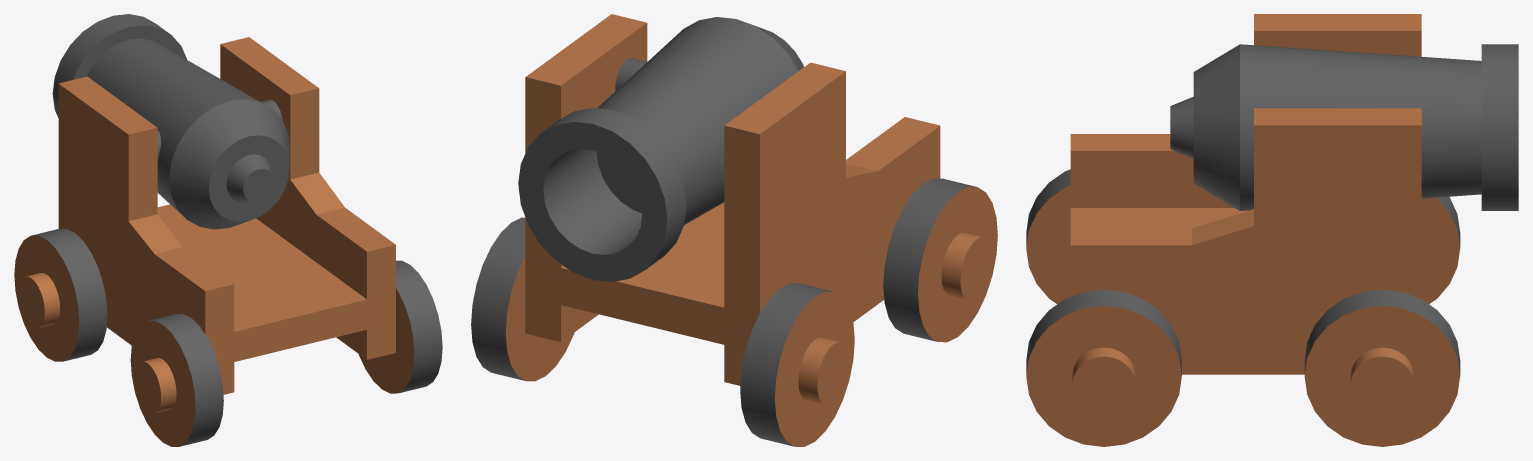
File: cannonMobile.fbx
3 renders of one model, left to right at view 1: azimuth 30°, elevation 25°; view 2: azimuth 150°, elevation 25°; view 3: azimuth 270°, elevation 25°, orthographic. The views are drawn at different scales.
Visible parts, largest first — view 1: cannonMobile_8angles, barrel 2, wheel_frontLeft, wheel_backLeft, wheel_backRight; view 2: cannonMobile_8angles, barrel 2, wheel_backLeft, wheel_frontLeft, wheel_frontRight; view 3: cannonMobile_8angles, barrel 2, wheel_frontRight, wheel_backRight, wheel_backLeft, wheel_frontLeft.
Part boxes in pixels (x1=…): cannonMobile_8angles: x1=58, y1=37, x2=395, y2=394; barrel 2: x1=52, y1=14, x2=290, y2=229; wheel_frontLeft: x1=14, y1=228, x2=107, y2=361; wheel_backLeft: x1=130, y1=314, x2=223, y2=446; wheel_backRight: x1=358, y1=260, x2=442, y2=393; cannonMobile_8angles: x1=525, y1=14, x2=940, y2=385; barrel 2: x1=518, y1=17, x2=803, y2=281; wheel_backLeft: x1=883, y1=178, x2=997, y2=342; wheel_frontLeft: x1=740, y1=283, x2=854, y2=446; wheel_frontRight: x1=471, y1=217, x2=574, y2=381; cannonMobile_8angles: x1=1070, y1=14, x2=1421, y2=374; barrel 2: x1=1170, y1=44, x2=1518, y2=210; wheel_frontRight: x1=1304, y1=289, x2=1460, y2=446; wheel_backRight: x1=1026, y1=289, x2=1181, y2=446; wheel_backLeft: x1=1026, y1=169, x2=1070, y2=304; wheel_frontLeft: x1=1421, y1=196, x2=1460, y2=303.
Bounding box in the file's own units: 6.33 × 5.88 × 8.13.
